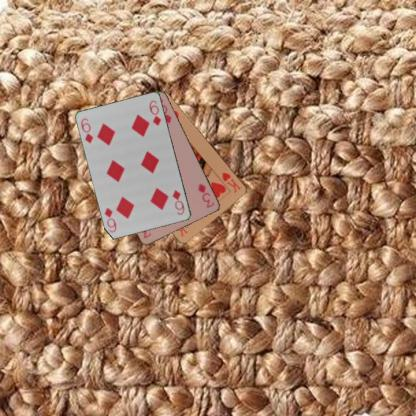3d: (196, 181, 216, 209)
6d: (78, 116, 95, 144), (170, 187, 186, 216)
Kh: (219, 169, 241, 194)
